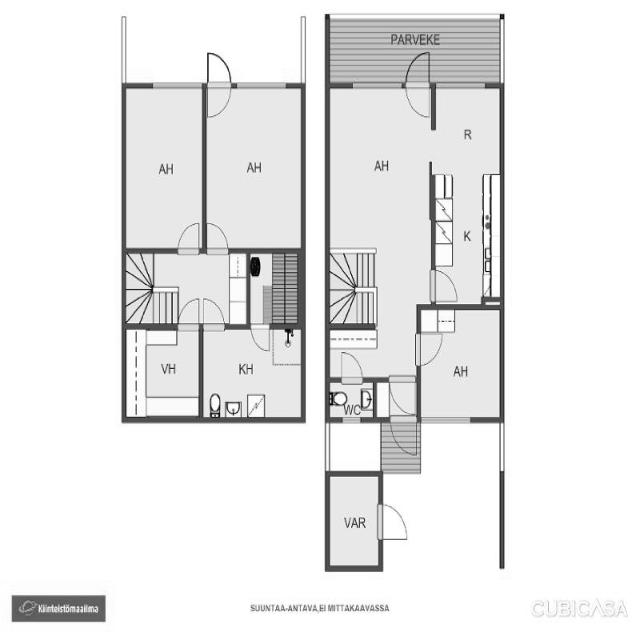door: (202, 47, 234, 121), (403, 48, 433, 122), (374, 500, 413, 548), (389, 390, 418, 445), (388, 416, 420, 460), (414, 330, 446, 370), (388, 376, 418, 415), (430, 268, 460, 304), (200, 294, 226, 334), (176, 218, 202, 257), (175, 295, 202, 331), (248, 322, 274, 356), (338, 350, 364, 384), (204, 219, 228, 255)
window: (233, 78, 291, 95), (147, 78, 205, 95), (494, 416, 510, 477), (348, 78, 403, 95), (418, 411, 476, 427), (435, 80, 486, 93), (337, 413, 365, 428)
zone: (326, 85, 436, 379), (203, 86, 304, 252), (432, 88, 503, 305), (123, 84, 206, 251), (200, 326, 306, 421), (419, 306, 502, 419), (124, 325, 202, 421), (330, 476, 380, 571), (250, 249, 302, 324), (326, 381, 377, 424)
